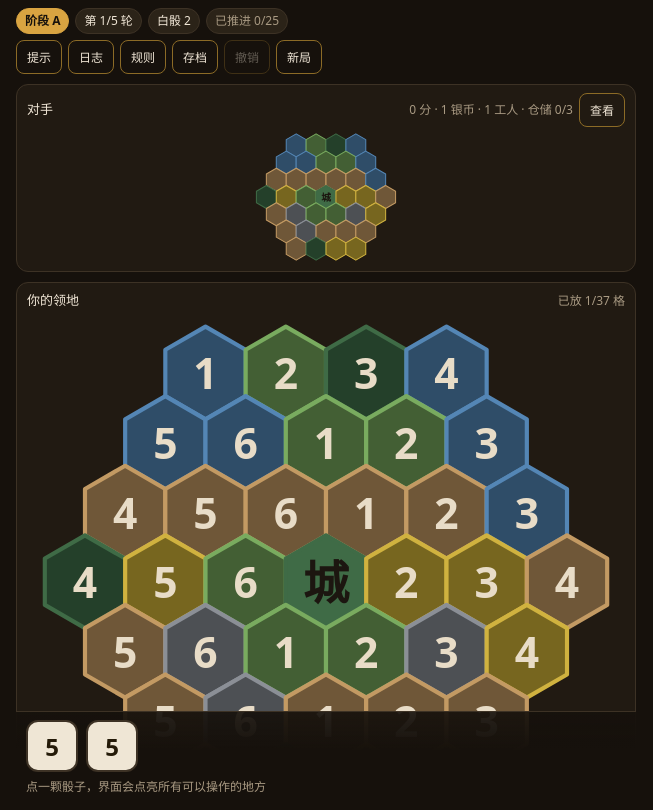
真实点击能推动对局 › 轮到人类时确实有点亮的目标与可点按钮（上一条断言的正对照，防止它空转）
The width and height of the screenshot is (653, 810).
Click the 1st button with class "die": point(52, 746) [26,720,78,772]
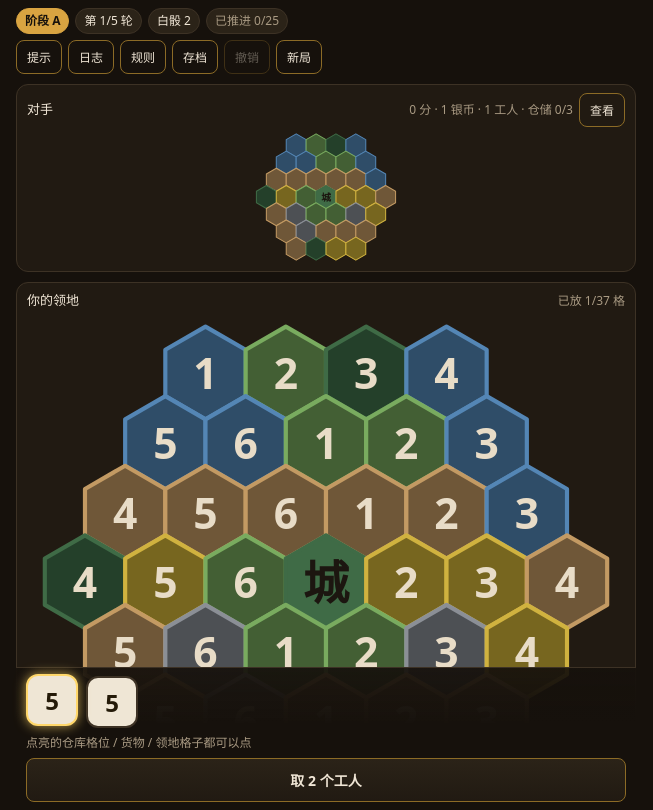
Expected: the button "取 2 个工人" is shown, [26,758,626,802]
